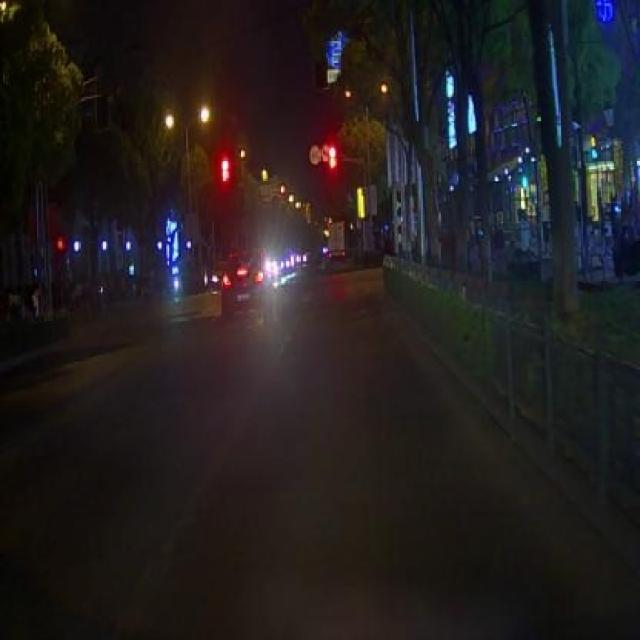forb_speed_over_40: (308, 144, 321, 167)
